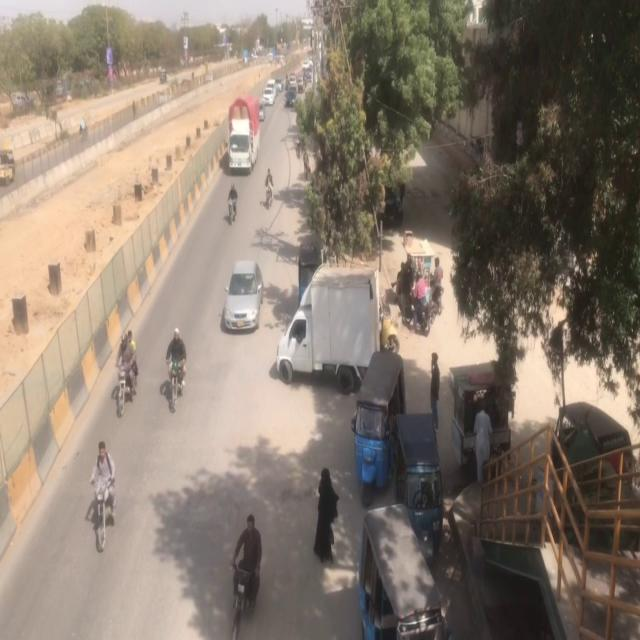car: (224, 255, 264, 340)
motorbike: (231, 509, 262, 640), (90, 434, 118, 549), (163, 324, 191, 414), (118, 329, 140, 417), (228, 179, 241, 227), (266, 167, 276, 208)
truck: (227, 89, 261, 178)
